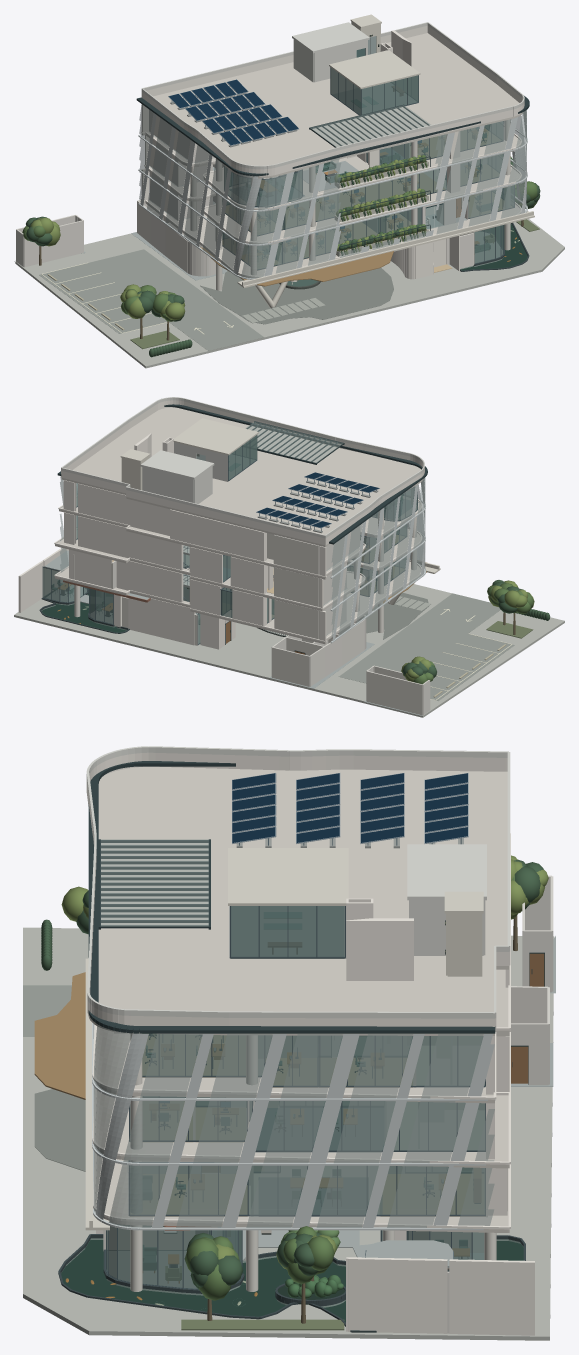
Rendered from osd-building.glb.
3 views of the same model, one above another, from view 1: azimuth 30°, elevation 25°; view 2: azimuth 150°, elevation 25°; view 3: azimuth 270°, elevation 25° (orthographic). The views are drawn at different scales.
Visible parts, largest first — view 1: Floor_5_slab, Floor_1_slab, Floor_1, Parking_paving, Floor_2_perforated_screens, Floor_3_perforated_screens, Floor_4_perforated_screens, Floor_1_arrival_turning_court, Floor_5_edge, Floor_3_glazing, Floor_5_solar_modules, Floor_2_glazing (+42 smaller); view 2: Floor_5_slab, Floor_1_slab, Floor_1, Parking_paving, Floor_4_solid_walls, Floor_3_solid_walls, Floor_2_solid_walls, Floor_1_solid_walls, Floor_5_edge, Floor_5_roof_parapet_extension, Floor_4, Floor_2_perforated_screens (+34 smaller); view 3: Floor_5_slab, Floor_1_slab, Floor_1, Floor_4_perforated_screens, Floor_2_perforated_screens, Floor_3_perforated_screens, Floor_1_solid_walls, Floor_2_glazing, Floor_3_glazing, Floor_4_glazing, Floor_5_solar_modules, Floor_5_edge (+44 smaller).
Boxes of the visible parts, left/top/right/bottom form: Floor_5_slab: left=153, top=33, right=523, bottom=178; Floor_1_slab: left=15, top=219, right=564, bottom=368; Floor_1: left=16, top=156, right=540, bottom=357; Parking_paving: left=39, top=249, right=263, bottom=350; Floor_2_perforated_screens: left=139, top=166, right=526, bottom=278; Floor_3_perforated_screens: left=139, top=130, right=526, bottom=244; Floor_4_perforated_screens: left=139, top=104, right=526, bottom=210; Floor_1_arrival_turning_court: left=200, top=268, right=393, bottom=324; Floor_5_edge: left=141, top=25, right=524, bottom=176; Floor_3_glazing: left=222, top=154, right=503, bottom=235; Floor_5_solar_modules: left=169, top=79, right=298, bottom=145; Floor_2_glazing: left=222, top=185, right=513, bottom=269; Floor_5_slab: left=61, top=407, right=423, bottom=546; Floor_1_slab: left=14, top=584, right=564, bottom=717; Floor_1: left=42, top=550, right=550, bottom=715; Parking_paving: left=339, top=593, right=514, bottom=700; Floor_4_solid_walls: left=63, top=480, right=326, bottom=576; Floor_3_solid_walls: left=64, top=512, right=368, bottom=607; Floor_2_solid_walls: left=69, top=549, right=377, bottom=641; Floor_1_solid_walls: left=18, top=548, right=235, bottom=649; Floor_5_edge: left=61, top=400, right=424, bottom=545; Floor_5_roof_parapet_extension: left=61, top=397, right=424, bottom=538; Floor_4: left=267, top=525, right=360, bottom=574; Floor_2_perforated_screens: left=60, top=536, right=425, bottom=637; Floor_5_slab: left=88, top=766, right=508, bottom=1035; Floor_1_slab: left=23, top=927, right=554, bottom=1340; Floor_1: left=41, top=855, right=553, bottom=1333; Floor_4_perforated_screens: left=94, top=1025, right=483, bottom=1098; Floor_2_perforated_screens: left=93, top=1151, right=494, bottom=1227; Floor_3_perforated_screens: left=93, top=1087, right=494, bottom=1163; Floor_1_solid_walls: left=96, top=1226, right=534, bottom=1335; Floor_2_glazing: left=130, top=1165, right=484, bottom=1214; Floor_3_glazing: left=130, top=1096, right=485, bottom=1150; Floor_4_glazing: left=142, top=1033, right=484, bottom=1085; Floor_5_solar_modules: left=232, top=773, right=467, bottom=842; Floor_5_edge: left=86, top=752, right=510, bottom=1031.
Size of the model in its own units: 47.76 by 18.5 by 26.15.
